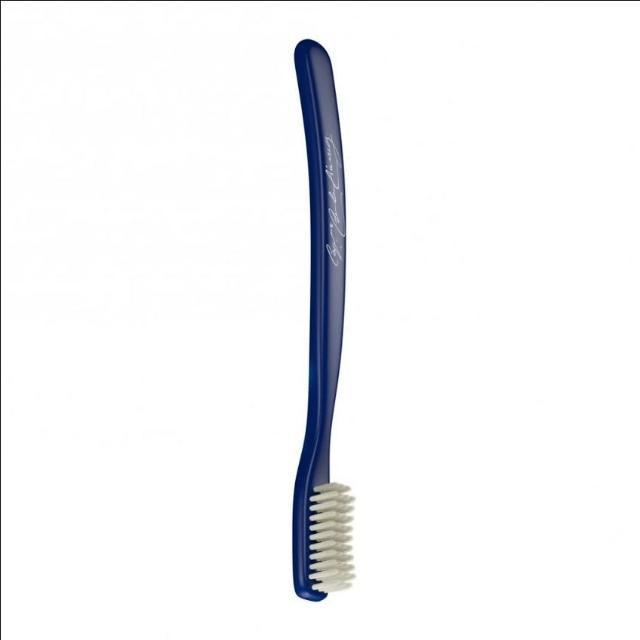toothbrush: (248, 22, 388, 634)
